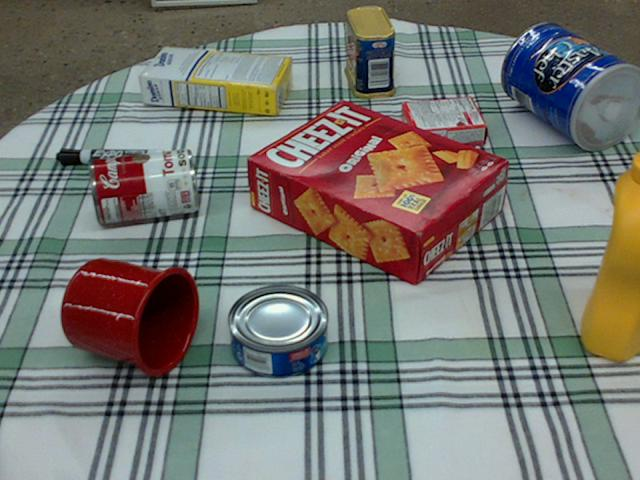cracker_box: (248, 98, 507, 282)
gelatin_box: (399, 92, 486, 151)
large_marker: (55, 149, 163, 165)
master_chef_can: (499, 23, 639, 149)
mug: (60, 258, 198, 375)
mustard_bottle: (580, 149, 639, 358)
potted_meat_can: (342, 5, 395, 97)
sugar_box: (139, 47, 293, 114)
tomato_soup_can: (88, 147, 198, 224)
tuna_fish_can: (226, 284, 327, 378)
